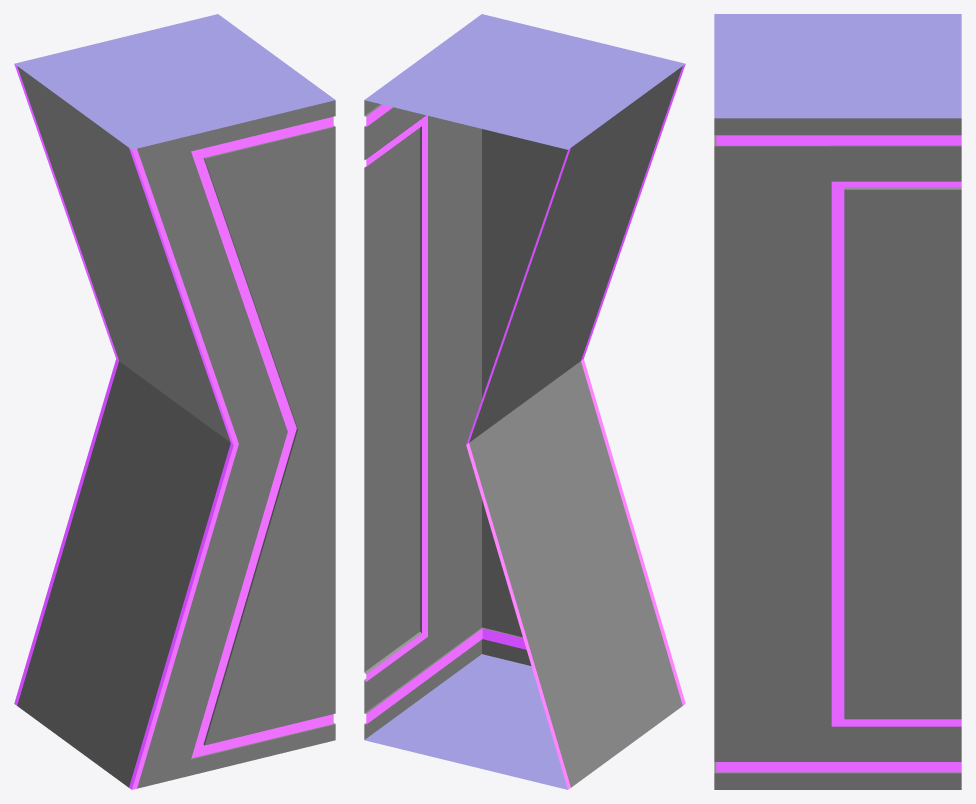
The model's file is TunnelThinFlatEnd.FBX.
3 views of the same model, side by side, from view 1: azimuth 30°, elevation 25°; view 2: azimuth 150°, elevation 25°; view 3: azimuth 270°, elevation 25° (orthographic). The views are drawn at different scales.
Visible parts, largest first — view 1: TunneThinlFlatEnd; view 2: TunneThinlFlatEnd; view 3: TunneThinlFlatEnd.
Boxes of the visible parts, x1,y1,x2,y2 form: TunneThinlFlatEnd: (14, 14, 335, 789); TunneThinlFlatEnd: (364, 14, 685, 789); TunneThinlFlatEnd: (714, 14, 961, 789).
Bounding box in the file's own units: 100 × 100 × 300.
